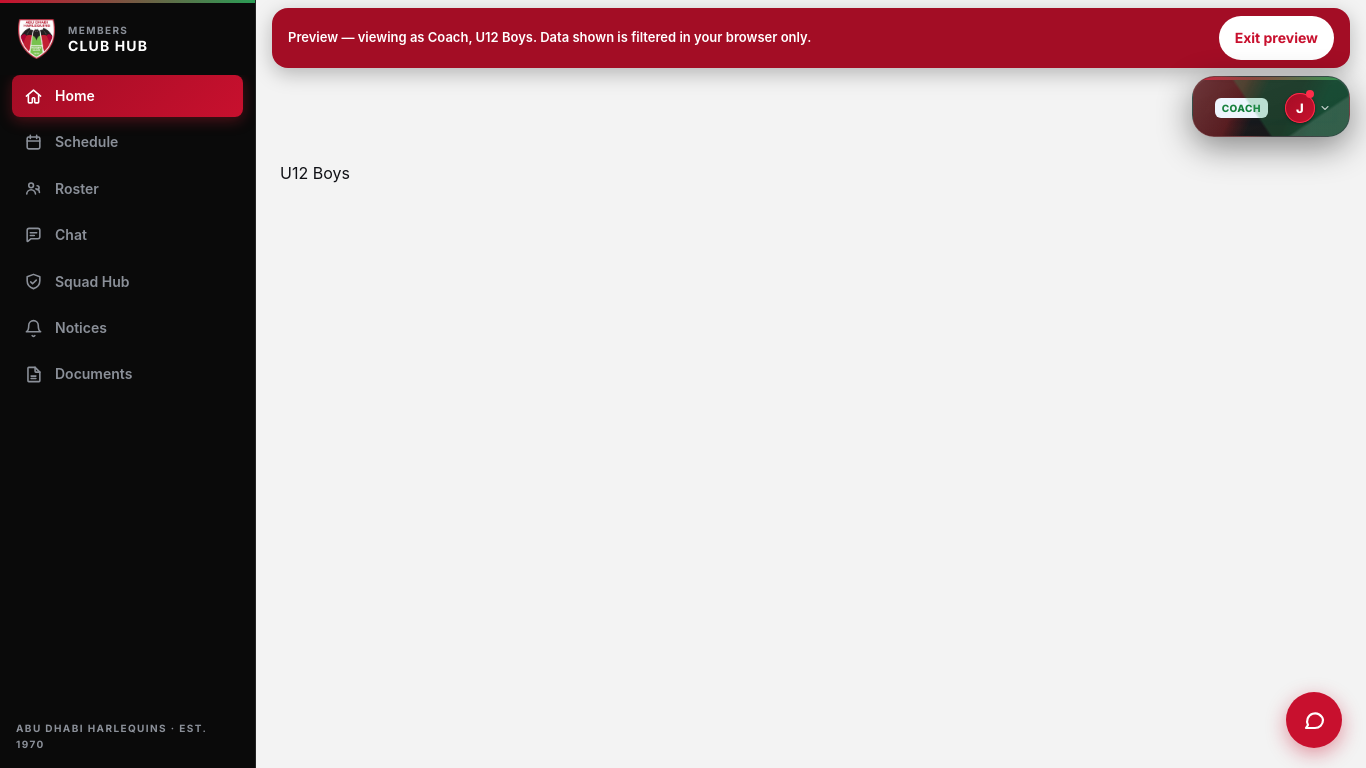
View as, reached through the account menu › shows a preview in progress on the initial, and says so on the View as row
Expected: the text "J" is shown, [1285,93,1315,123]
What coordinates should you click on to do the following:
click the button with test id "account-button"
I would click on:
 (1310, 108)
Its box is [1282,90,1337,126].
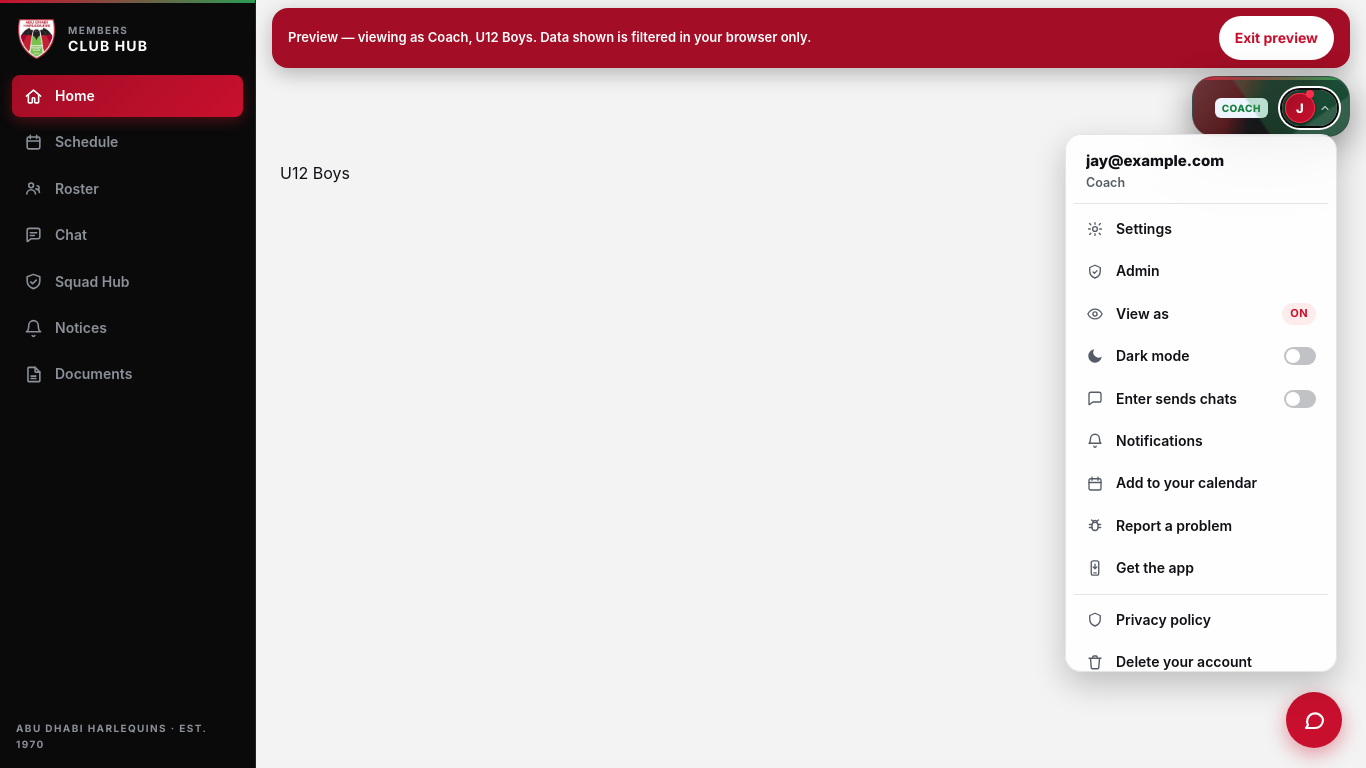
Now the menu item with test id "view-as-trigger" shows "On", box [1074,293,1328,335]
